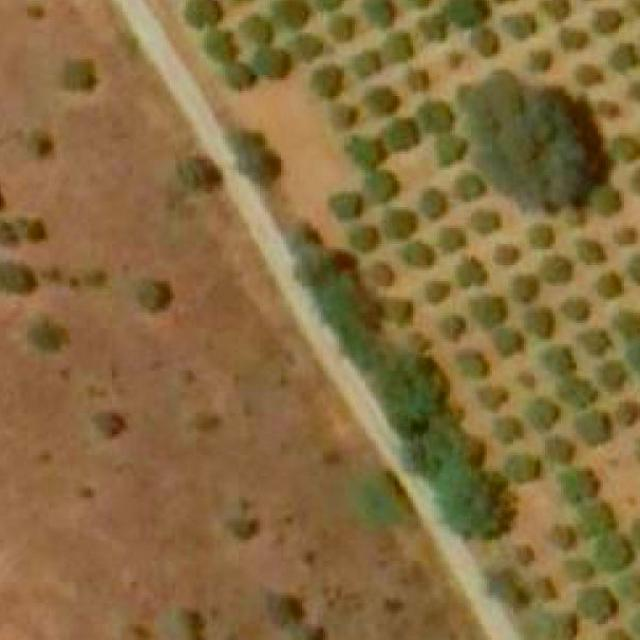Tree: (463, 70, 608, 210), (431, 463, 510, 542), (352, 468, 408, 528), (481, 558, 536, 614), (180, 154, 222, 200), (241, 147, 281, 184), (168, 603, 207, 640), (222, 506, 256, 548), (576, 411, 614, 448), (598, 534, 634, 572), (88, 402, 124, 440), (582, 498, 619, 534), (202, 30, 238, 66), (65, 59, 102, 94), (27, 320, 70, 350), (265, 596, 302, 630), (447, 0, 487, 31), (288, 33, 326, 64), (135, 281, 175, 310), (0, 265, 36, 297), (274, 0, 310, 31), (241, 12, 272, 48), (466, 295, 502, 326), (468, 31, 503, 62), (389, 117, 420, 152), (346, 138, 382, 168), (384, 31, 418, 62), (565, 378, 600, 408), (605, 43, 637, 75), (454, 350, 489, 379), (508, 453, 545, 480), (542, 608, 573, 640), (502, 14, 536, 43), (230, 128, 265, 156), (542, 253, 573, 284), (529, 399, 561, 429), (587, 587, 617, 619), (313, 64, 339, 100), (589, 184, 619, 215), (334, 191, 365, 221), (566, 468, 598, 497), (423, 102, 450, 136), (439, 135, 469, 165), (366, 0, 397, 29), (586, 6, 621, 31), (475, 386, 510, 411), (568, 555, 603, 580), (368, 172, 397, 202), (598, 362, 627, 392), (529, 307, 556, 339), (547, 437, 579, 464), (368, 86, 397, 115), (423, 191, 450, 221), (614, 307, 640, 338), (510, 273, 537, 302), (387, 210, 416, 237), (27, 128, 54, 157), (473, 207, 503, 233), (460, 260, 490, 286), (189, 0, 220, 25), (331, 15, 360, 41), (405, 242, 434, 268), (497, 328, 524, 355), (0, 216, 20, 252), (420, 15, 447, 41), (529, 223, 556, 249), (584, 328, 610, 355), (552, 524, 579, 550), (350, 54, 379, 78), (334, 107, 360, 133), (228, 64, 255, 89), (260, 54, 291, 75), (531, 52, 558, 76), (566, 297, 593, 321), (441, 228, 466, 253), (426, 281, 452, 305), (547, 350, 571, 376), (574, 242, 603, 263), (357, 228, 381, 253), (438, 313, 463, 337), (542, 0, 571, 20), (367, 265, 394, 286), (494, 416, 516, 441), (516, 365, 536, 392), (459, 176, 484, 197), (619, 574, 640, 599), (24, 1, 49, 22), (26, 221, 51, 242), (561, 28, 587, 48), (408, 68, 428, 94), (616, 138, 640, 159), (600, 273, 619, 298), (579, 64, 600, 86), (600, 98, 624, 117), (498, 244, 518, 265), (288, 627, 320, 640), (397, 0, 437, 10), (619, 226, 638, 247), (629, 252, 640, 288), (225, 0, 257, 12), (629, 339, 640, 371), (312, 0, 346, 10), (629, 170, 640, 200), (0, 175, 7, 222), (605, 627, 630, 640), (621, 402, 637, 422), (447, 48, 462, 68), (629, 80, 640, 105), (635, 516, 640, 551), (629, 0, 640, 15), (635, 608, 640, 639), (488, 0, 518, 4)
